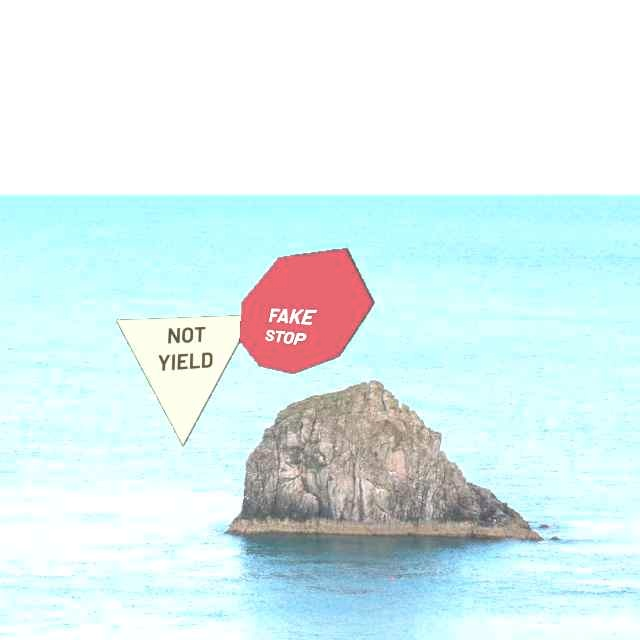FAKE_STOP: (239, 247, 375, 374)
NOT_YIELD: (115, 314, 254, 447)
